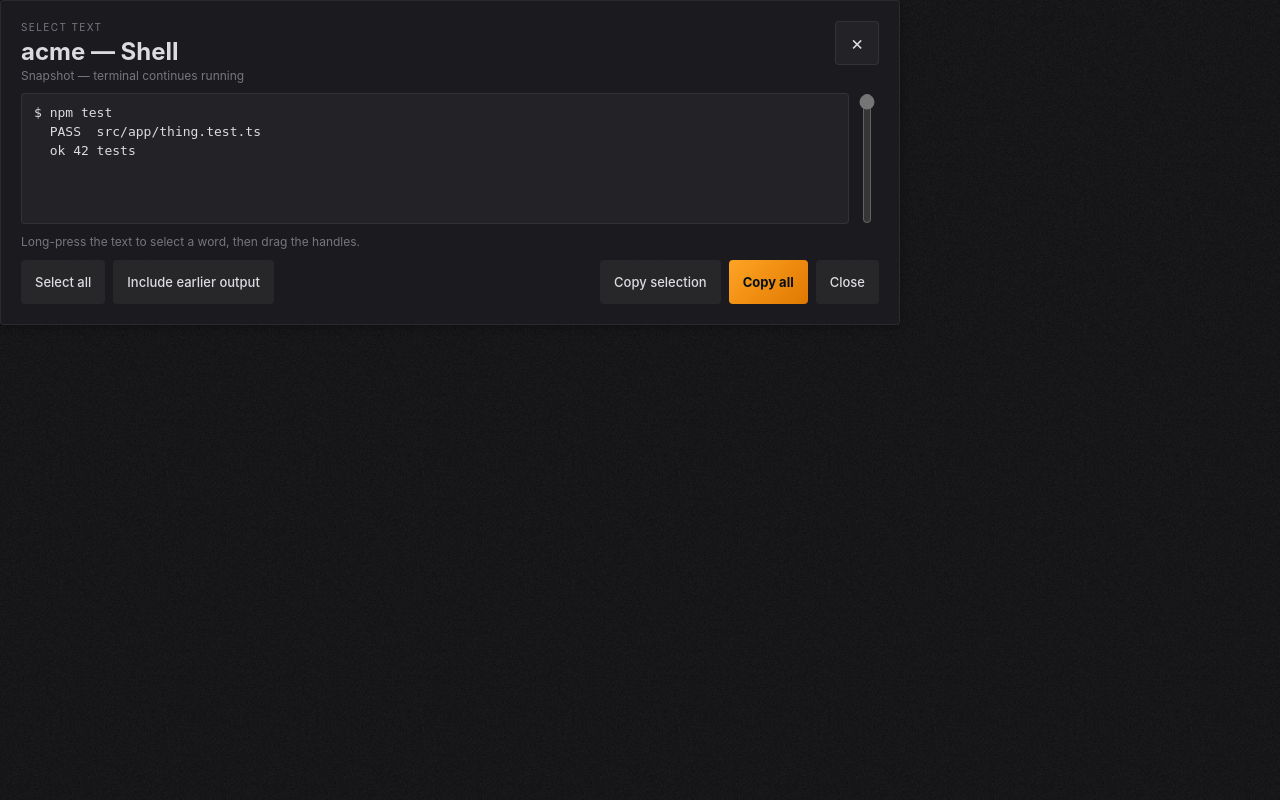
Test: TerminalTextSelectionDialog › copy › handles a webview with no Clipboard API at all
The width and height of the screenshot is (1280, 800).
Step 1. Click the button "Copy all" → click(768, 282), box 729,260 -> 808,304
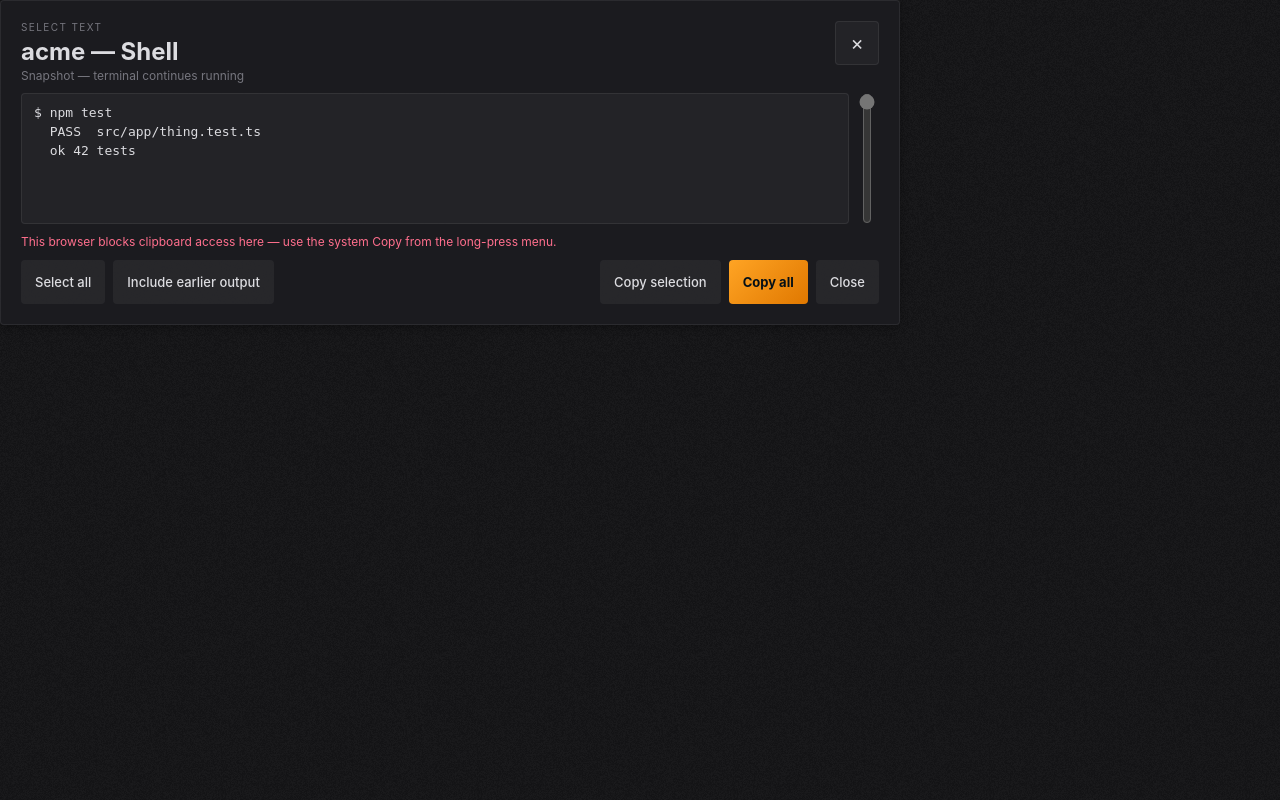
Expected: the text "system Copy" is shown, 21,234 -> 556,249
